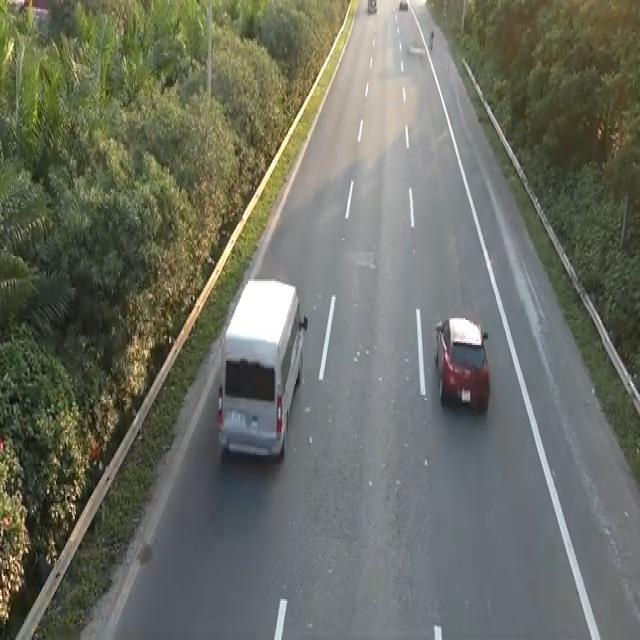bus: (433, 313, 491, 414)
jeep: (214, 274, 309, 460)
minibus: (427, 26, 435, 49)
